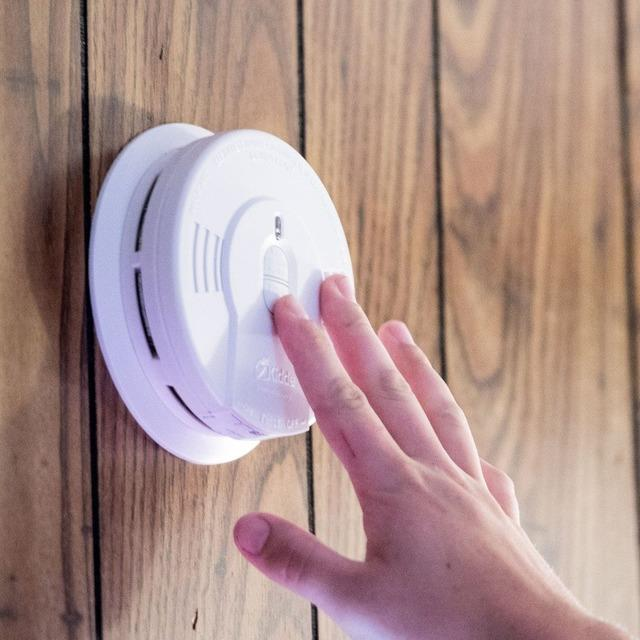Smoke-Detector: (89, 102, 277, 454)
